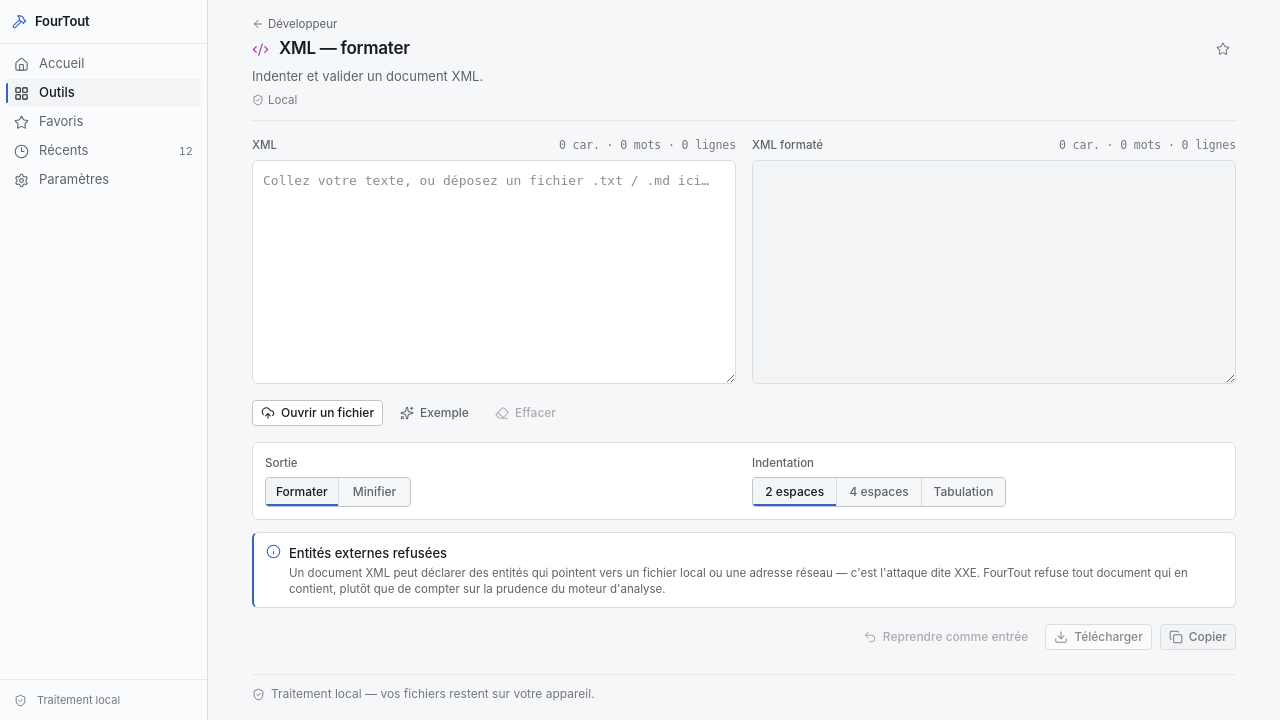
Test: développeur — formats de données › XML : formate et refuse une entité externe
Expected: the heading "XML — formater" is shown, 279,38 -> 410,58
Click the text box labelled "XML": x=494, y=272 252,160 -> 736,384
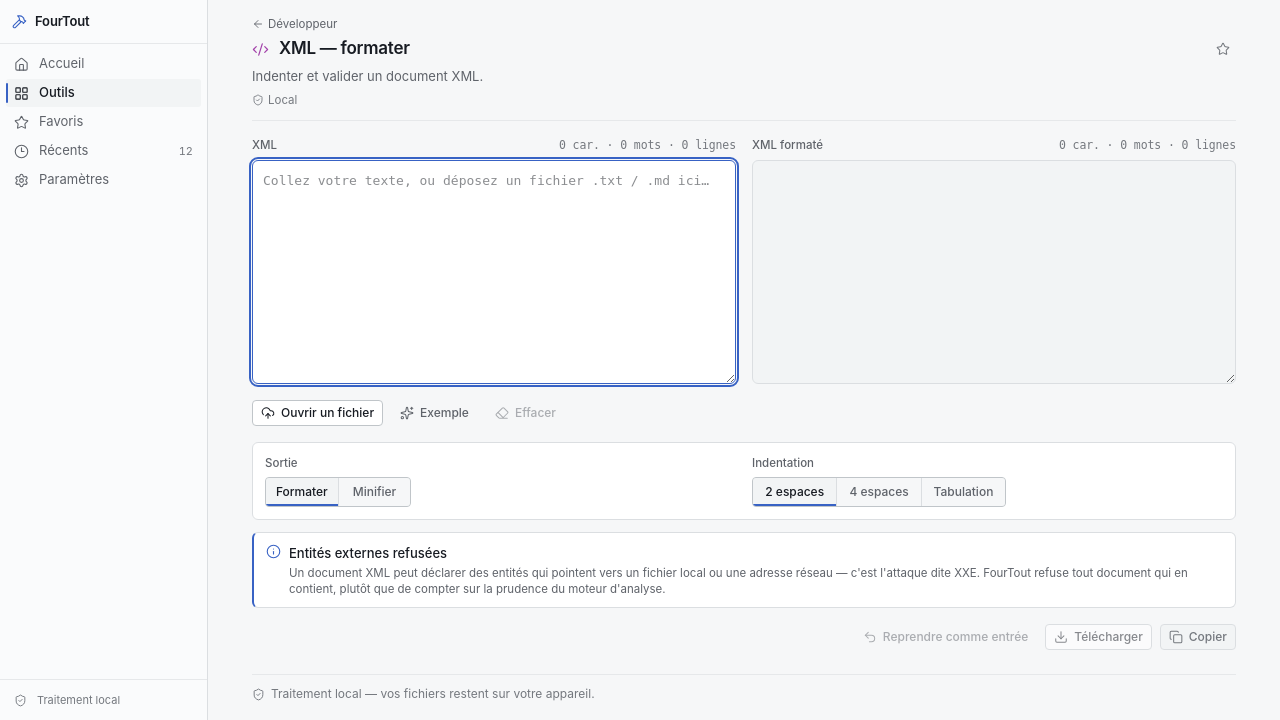
Type keys "<a><b>1</b></a>"
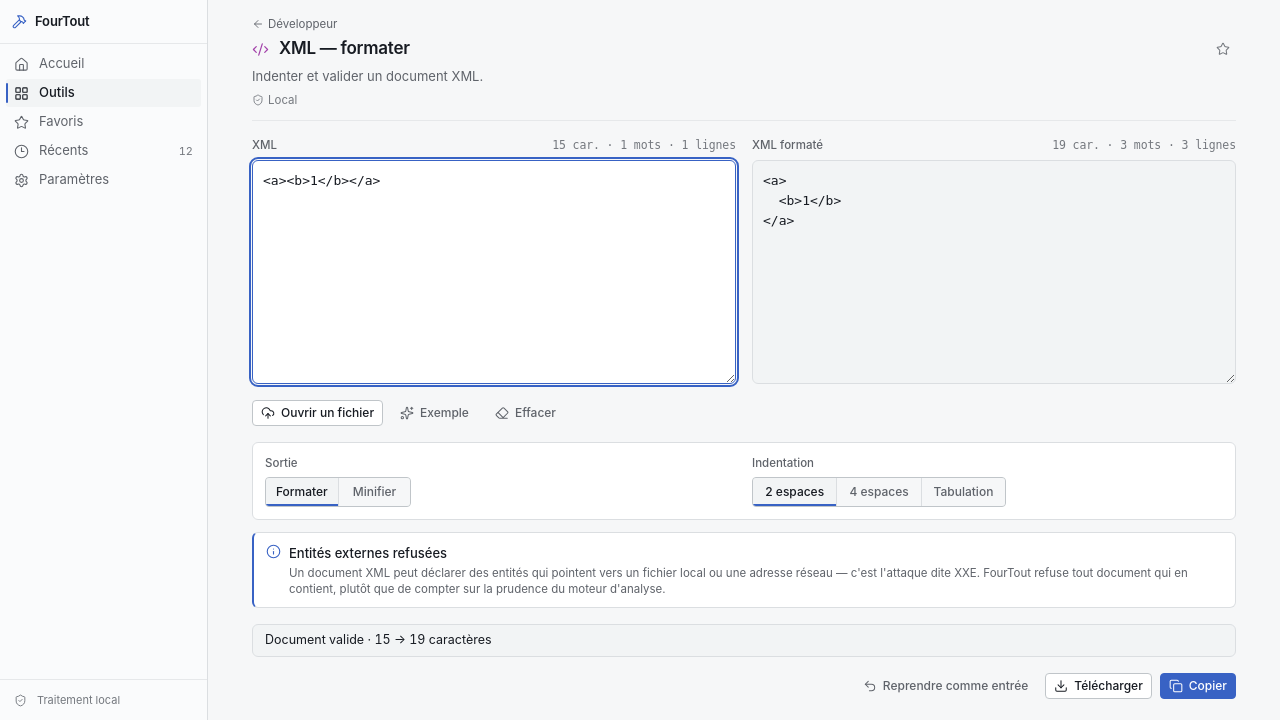
Clear the text box labelled "XML": x=494, y=272 252,160 -> 736,384
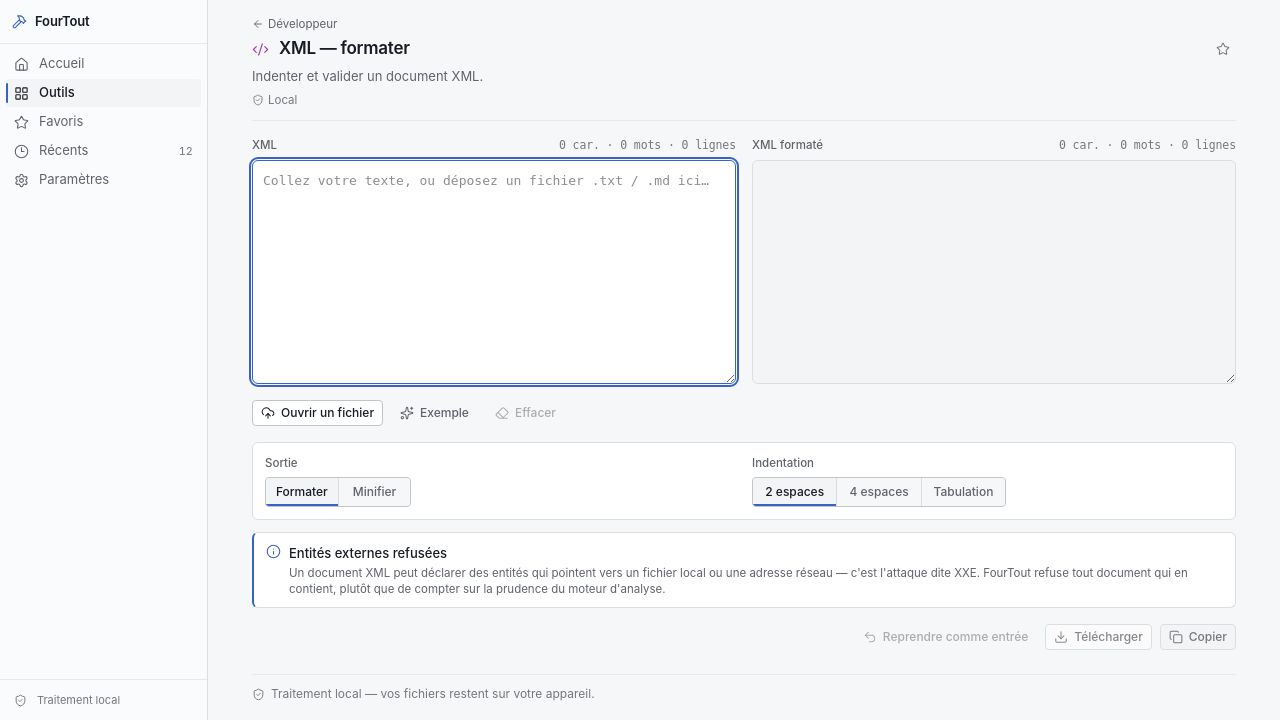
Type keys "<!DOCTYPE f [ <!ENTITY x SYSTEM \"file:///etc/passwd\"> ]><f>&x;</f>"
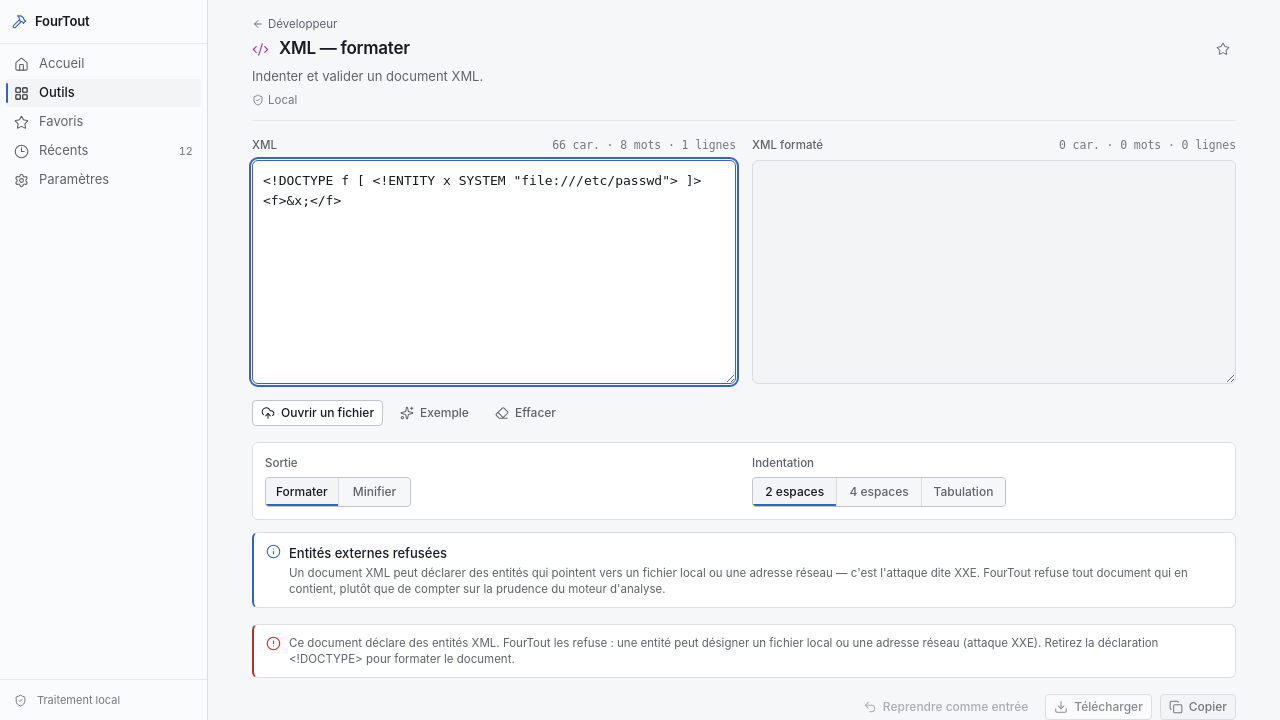
Result: the text "entités XML" is shown at 289,636 -> 1158,666
